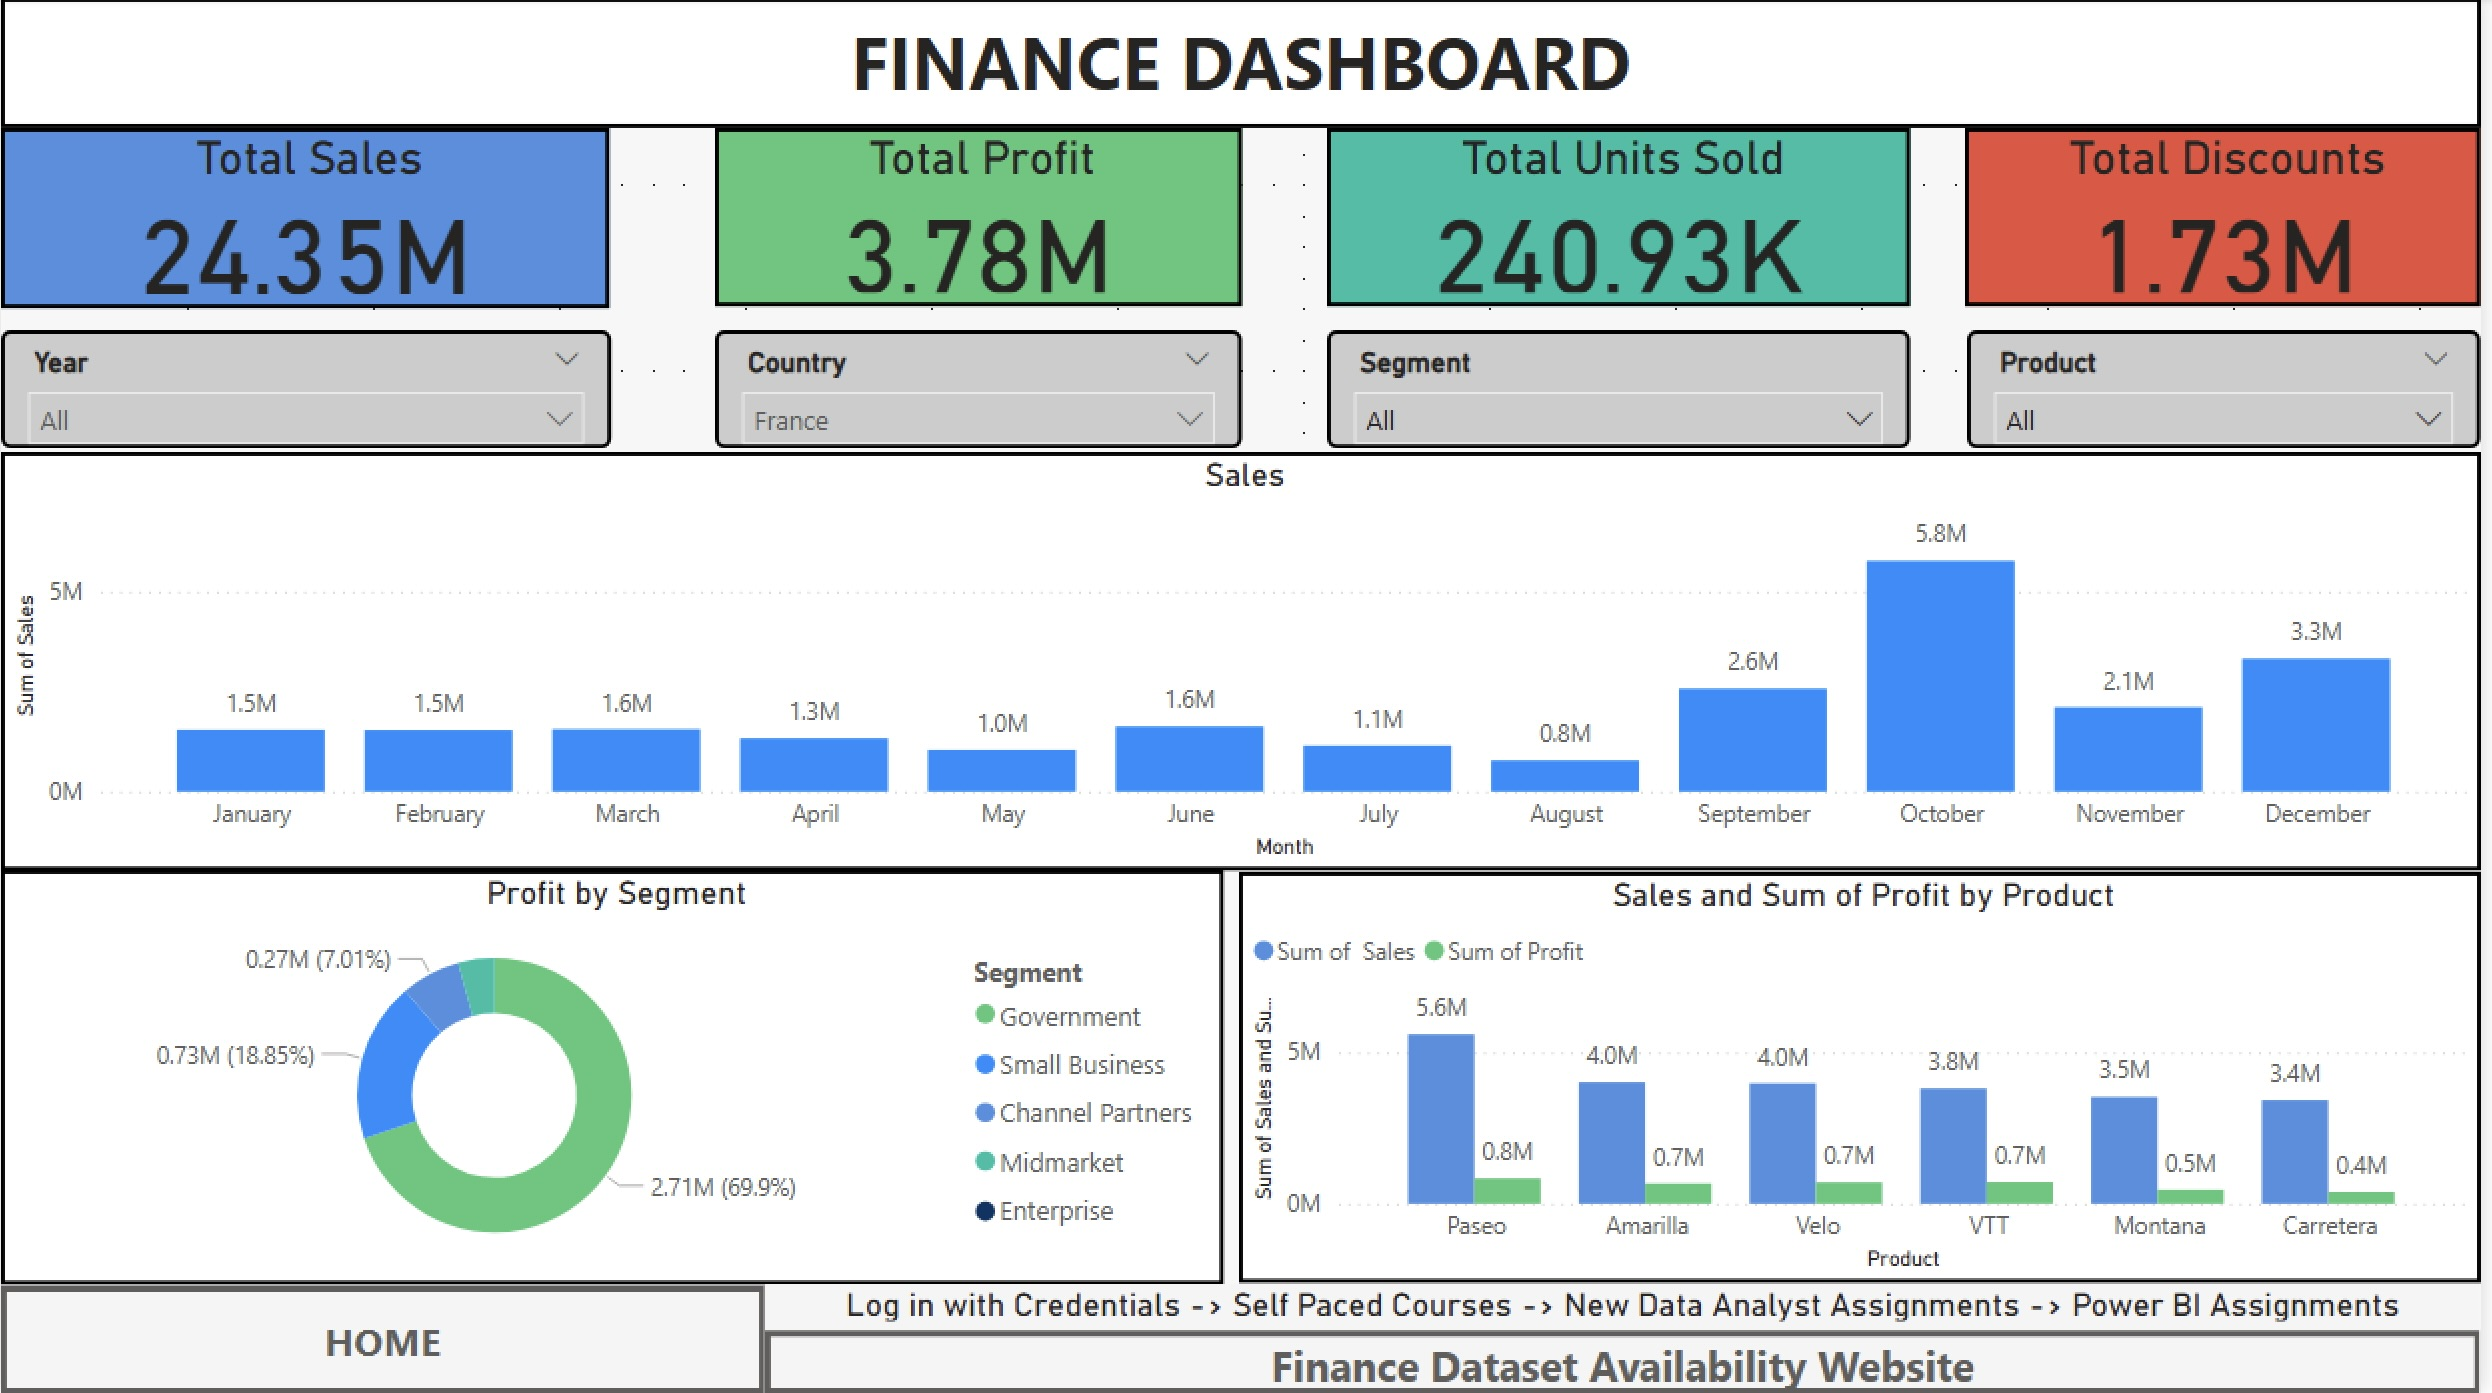

What the dashboard file says about the page in this screenshot:
{"tool":"powerbi","page":{"name":"Dashboard","canvas":[1280,720],"ordinal":10},"visuals":[{"type":"textbox","box":[0,0,1280,67.1],"z":0},{"type":"card","title":"Total Sales","fields":{"Values":["financials. Sales"]},"box":[0,67.1,314.3,92.9],"z":1000},{"type":"card","title":"Total Profit","fields":{"Values":["financials.Profit"]},"box":[369,67.6,271.7,91.9],"z":2000},{"type":"card","title":"Total Units Sold","fields":{"Values":["financials.Units Sold"]},"box":[684,67.6,301.4,91.9],"z":3000},{"type":"card","title":"Total Discounts","fields":{"Values":["financials.Discounts"]},"box":[1013.8,67.6,266.3,91.9],"z":4000},{"type":"slicer","fields":{"Values":["financials.Year"]},"box":[0,171.7,314.9,60.8],"z":5000},{"type":"slicer","fields":{"Values":["financials.Country"]},"box":[369,171.7,271.7,60.8],"z":6000},{"type":"slicer","fields":{"Values":["financials.Segment"]},"box":[684,171.7,301.4,60.8],"z":7000},{"type":"slicer","fields":{"Values":["financials.Product"]},"box":[1015.1,171.7,264.9,60.8],"z":8000},{"type":"clusteredColumnChart","title":"Sales ","fields":{"Category":["financials.Date.Variation.Date Hierarchy.Year","financials.Date.Variation.Date Hierarchy.Quarter","financials.Date.Variation.Date Hierarchy.Month","financials.Date.Variation.Date Hierarchy.Day"],"Y":["financials. Sales"]},"box":[0,233.8,1280.1,216.3],"z":9000},{"type":"donutChart","title":"Profit by Segment","fields":{"Category":["financials.Segment"],"Y":["financials.Profit"]},"box":[0,450.1,631.3,213.6],"z":10000},{"type":"clusteredColumnChart","title":"Sales and Sum of Profit by Product","fields":{"Category":["financials.Product"],"Y":["financials. Sales","financials.Profit"]},"box":[639.4,451.5,640.7,212.2],"z":11000},{"type":"actionButton","box":[0,664.3,394.3,55.7],"z":13000},{"type":"actionButton","title":"Log in with Credentials -> Self Paced Courses -> New Data Analyst Assignments -> Power BI Assignments ","box":[394.7,663.7,885.4,56.8],"z":16000}]}

Visuals, with their boxes in screenshot pixels (x1, y1, x2, y2), scaled from the page's 1280x720 canvas onto the 2492x1393 screenshot:
textbox: pyautogui.locateOnScreen(0, 0, 2491, 130)
"Total Sales" card: pyautogui.locateOnScreen(0, 130, 612, 310)
"Total Profit" card: pyautogui.locateOnScreen(718, 131, 1247, 309)
"Total Units Sold" card: pyautogui.locateOnScreen(1332, 131, 1918, 309)
"Total Discounts" card: pyautogui.locateOnScreen(1974, 131, 2491, 309)
slicer - financials.Year: pyautogui.locateOnScreen(0, 332, 613, 450)
slicer - financials.Country: pyautogui.locateOnScreen(718, 332, 1247, 450)
slicer - financials.Segment: pyautogui.locateOnScreen(1332, 332, 1918, 450)
slicer - financials.Product: pyautogui.locateOnScreen(1976, 332, 2491, 450)
"Sales " clusteredColumnChart: pyautogui.locateOnScreen(0, 452, 2491, 871)
"Profit by Segment" donutChart: pyautogui.locateOnScreen(0, 871, 1229, 1284)
"Sales and Sum of Profit by Product" clusteredColumnChart: pyautogui.locateOnScreen(1245, 874, 2491, 1284)
actionButton: pyautogui.locateOnScreen(0, 1285, 768, 1392)
"Log in with Credentials -> Self Paced Courses -> New Data Analyst Assignments -> Power BI Assignments " actionButton: pyautogui.locateOnScreen(768, 1284, 2491, 1392)
